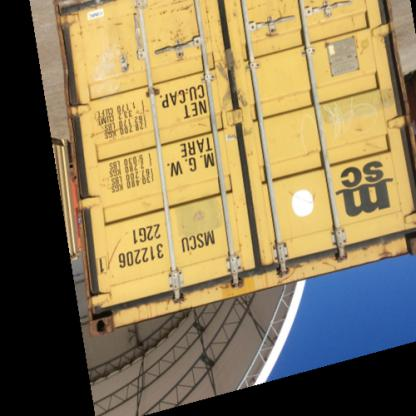Damage: (152, 26, 198, 68), (105, 19, 135, 77), (252, 2, 288, 42), (228, 189, 249, 256), (62, 9, 90, 52), (88, 302, 120, 338), (99, 234, 125, 276), (348, 30, 374, 70), (208, 272, 250, 294), (158, 286, 190, 314), (86, 112, 116, 140), (373, 240, 408, 263), (278, 258, 306, 284), (154, 1, 194, 17), (245, 56, 268, 76), (170, 84, 194, 102), (358, 144, 384, 160), (192, 117, 210, 139), (228, 1, 243, 26), (321, 257, 343, 273), (300, 148, 323, 162), (348, 128, 370, 140), (242, 147, 256, 165), (292, 130, 306, 145)
